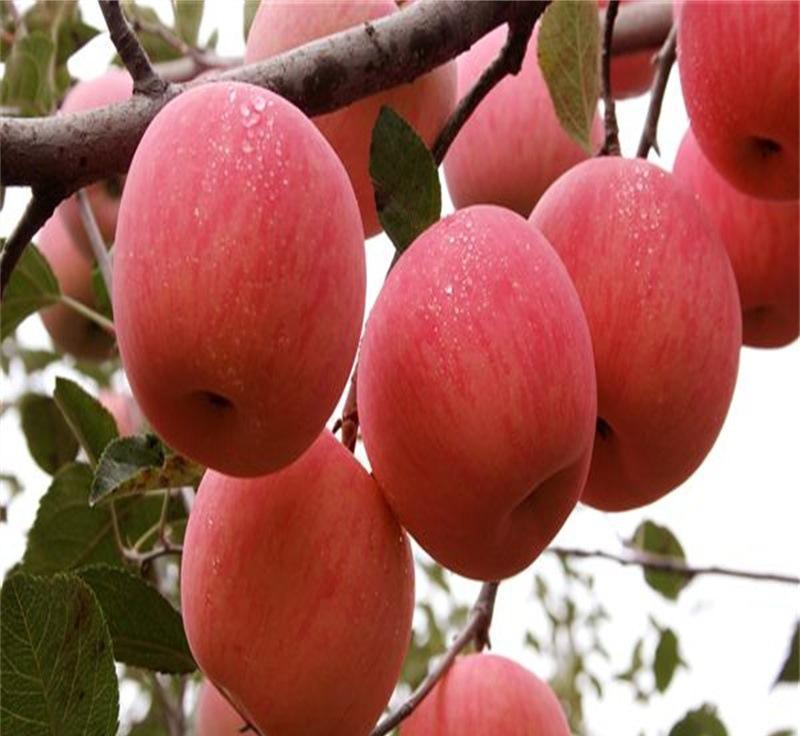apple: (107, 82, 371, 477), (356, 201, 599, 586), (529, 158, 739, 513), (176, 430, 414, 733), (670, 119, 800, 349), (670, 2, 800, 204)
